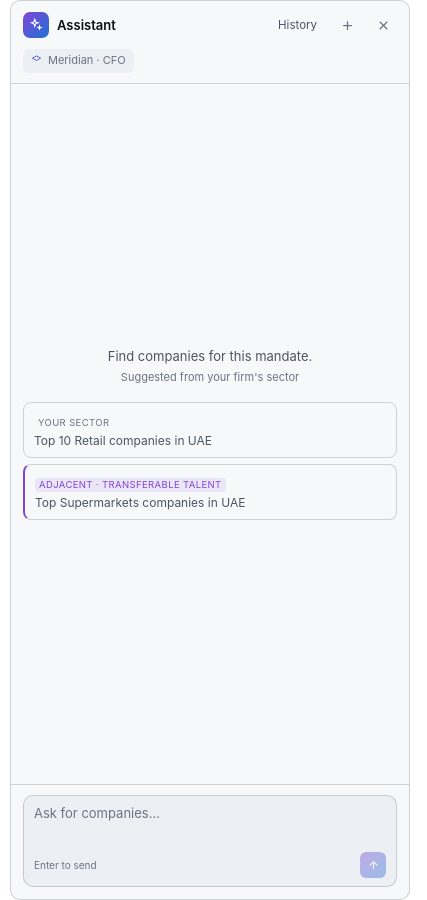
Scenario: a chat with the assistant › asks a suggested question in one press, marking the adjacent sectors out
Expected: the text "Adjacent · transferable talent" is shown, [35, 478, 226, 492]
Click the button "Top Supermarkets companies in UAE" at {"x": 210, "y": 492}, box [23, 464, 397, 520]
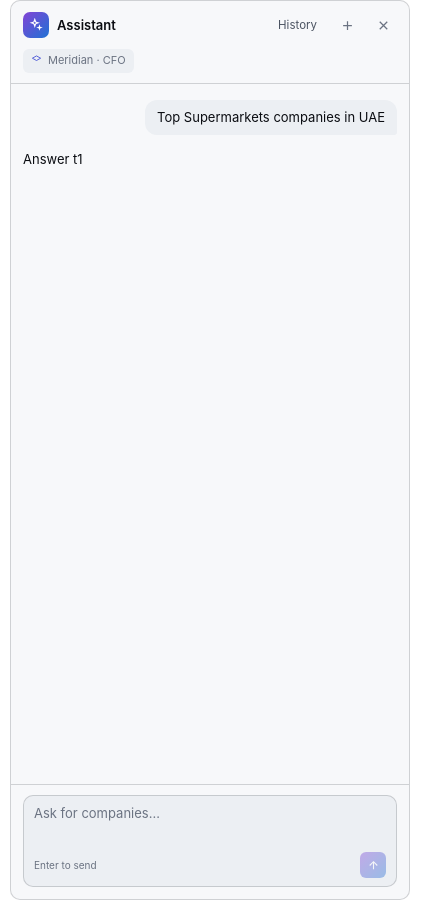
Expected: the text "Answer t1" is shown, [23, 151, 83, 167]
